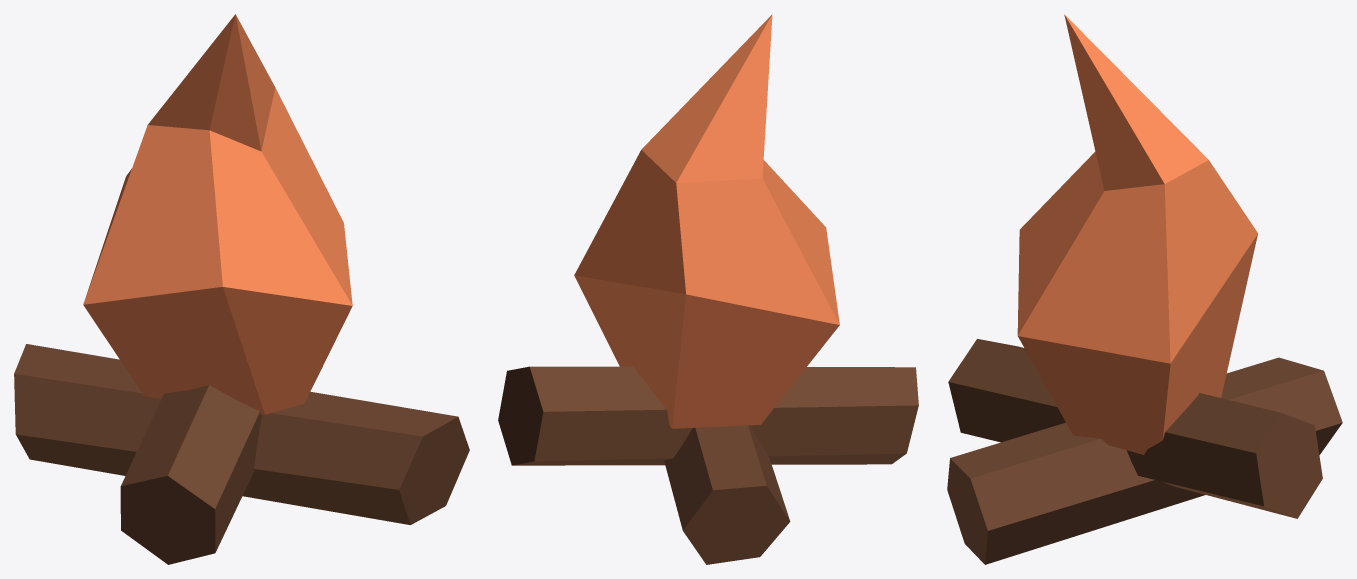
Rendered from fire.glb.
3 views of the same model, side by side, from view 1: azimuth 30°, elevation 25°; view 2: azimuth 150°, elevation 25°; view 3: azimuth 270°, elevation 25° (orthographic). The views are drawn at different scales.
Parts seen in each view (by area): view 1: fire; view 2: fire; view 3: fire.
Part boxes in pixels (x1,y1,x2,y2): fire: (14,14,469,564); fire: (498,14,918,564); fire: (947,14,1342,564).
Bounding box in the file's own units: 1.77 × 2.5 × 1.89.
